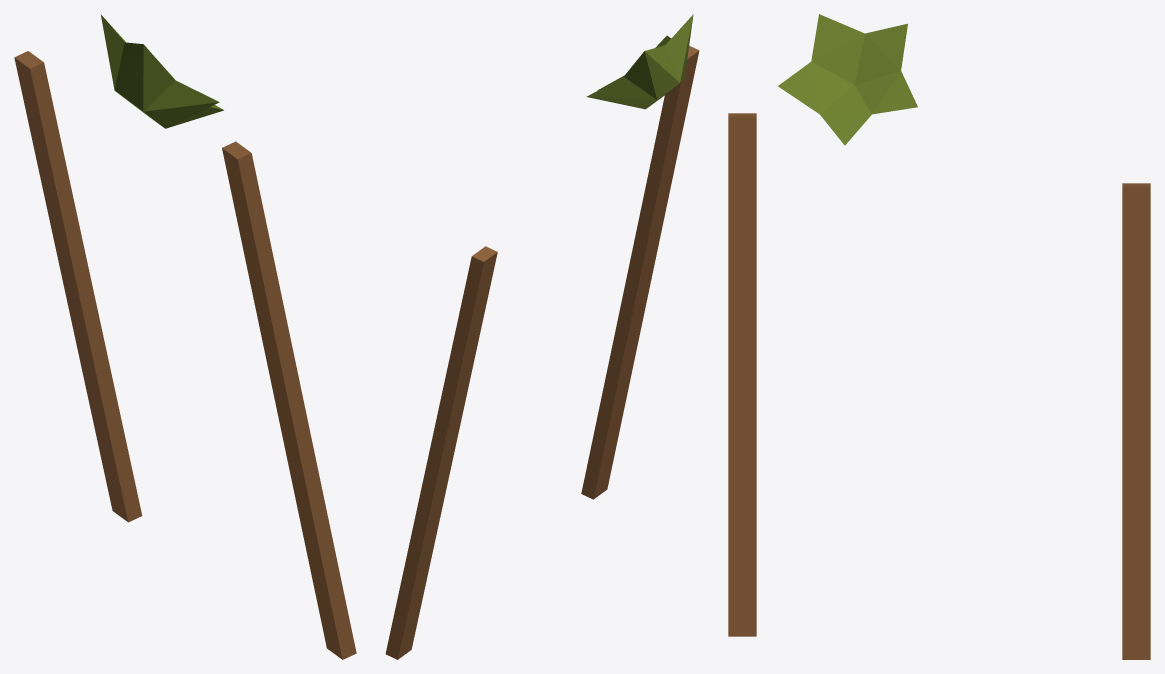
3 renders of one model, left to right at view 1: azimuth 30°, elevation 25°; view 2: azimuth 150°, elevation 25°; view 3: azimuth 270°, elevation 25°, orthographic. The views are drawn at different scales.
Visible parts, largest first — view 1: Plane547_brown_0, Plane544_brown_0, Box15958_green2_0; view 2: Plane547_brown_0, Plane544_brown_0, Box15958_green2_0; view 3: Plane547_brown_0, Plane544_brown_0, Box15958_green2_0.
Boxes of the visible parts, box(x1,y1,x2,y2) form: Plane547_brown_0: box(222, 141, 356, 659); Plane544_brown_0: box(14, 51, 142, 522); Box15958_green2_0: box(100, 14, 223, 128); Plane547_brown_0: box(581, 46, 699, 499); Plane544_brown_0: box(385, 246, 497, 659); Box15958_green2_0: box(586, 14, 693, 109); Plane547_brown_0: box(728, 113, 756, 636); Plane544_brown_0: box(1122, 183, 1150, 659); Box15958_green2_0: box(778, 14, 917, 145).
Size of the model in its own units: 134 by 470 by 313.
